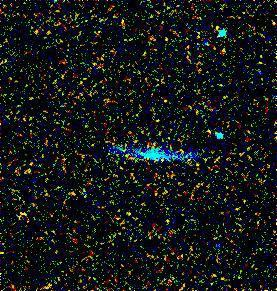star: (202, 11, 232, 41)
